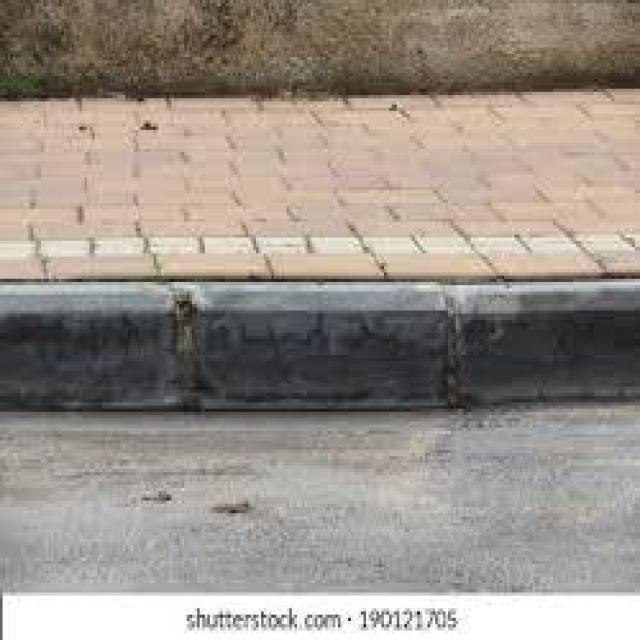curb: (1, 263, 640, 413)
